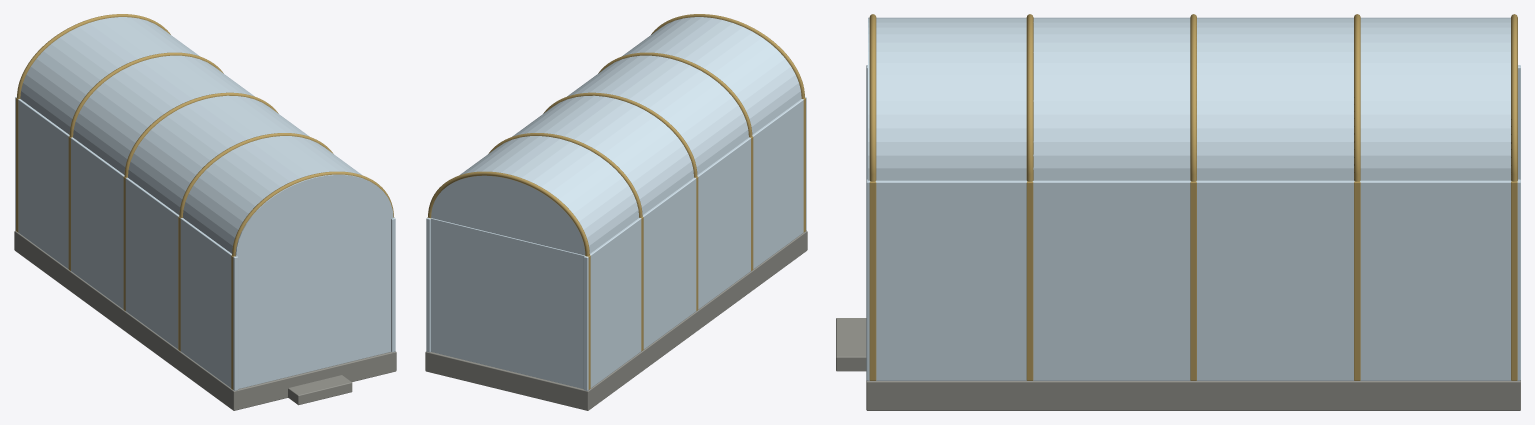
The model's file is fantasy-cartographers-map-printing-guild-glazed-survey-9c41b0ba__32228.glb.
3 renders of one model, left to right at view 1: azimuth 30°, elevation 25°; view 2: azimuth 150°, elevation 25°; view 3: azimuth 270°, elevation 25°, orthographic. The views are drawn at different scales.
Parts seen in each view (by area): view 1: glazed-survey-gallery; view 2: glazed-survey-gallery; view 3: glazed-survey-gallery.
Part boxes in pixels (box(x1,y1,x2,y2)): glazed-survey-gallery: box(14, 14, 396, 410); glazed-survey-gallery: box(425, 14, 807, 410); glazed-survey-gallery: box(836, 14, 1520, 410).
Size of the model in its own units: 3 by 3.79 by 7.32.
